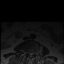CCS_normal: (30, 50, 31, 58)
LFS_stenosis: (33, 51, 35, 56)
LLS_stenosis: (31, 50, 33, 56)
RFS_stenosis: (26, 50, 28, 56)
RLS_stenosis: (28, 50, 30, 56)
